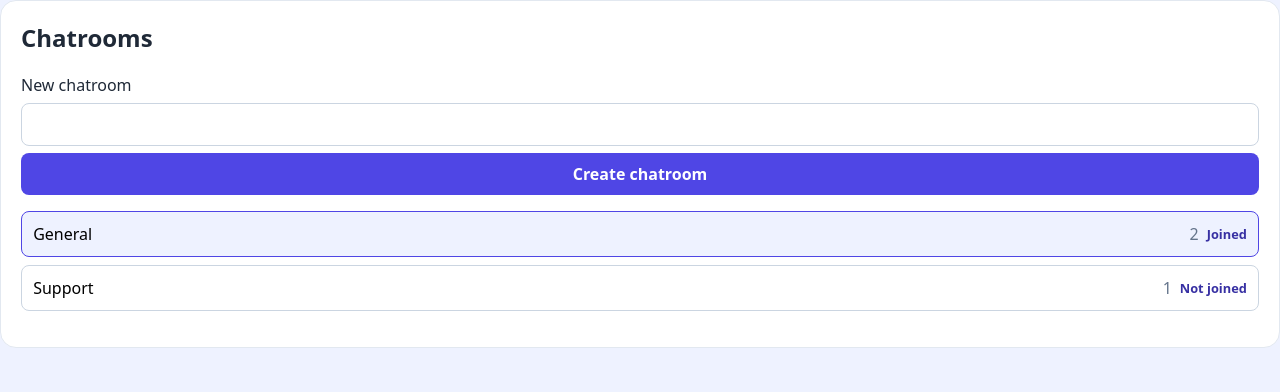
Test: blocks invalid names and preserves the name after an API error
The width and height of the screenshot is (1280, 392).
Submit the form "Create chatroom", box [21,74,1259,195]
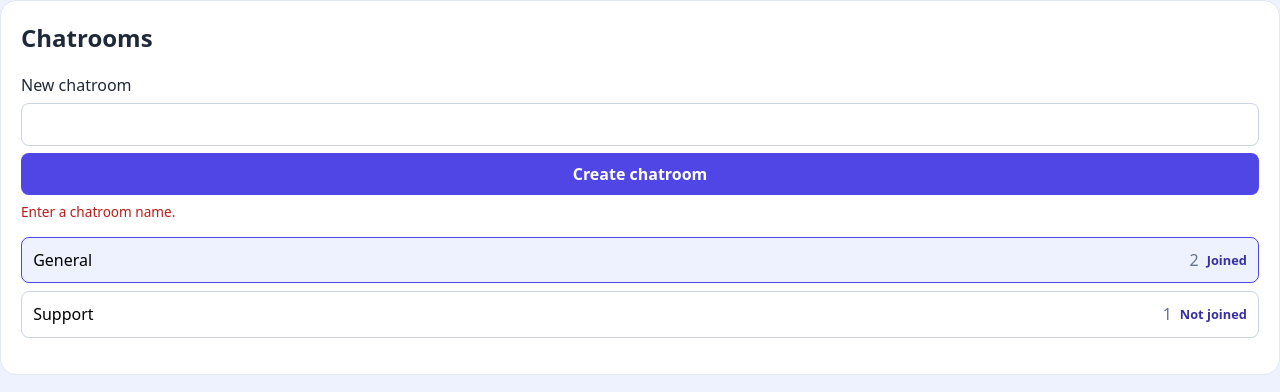
Now the message reads "Enter a chatroom name.", box [21,202,175,221]
Type "Support" into the field labelled "New chatroom".
click(640, 125); type("Support")  # box [21,103,1259,146]
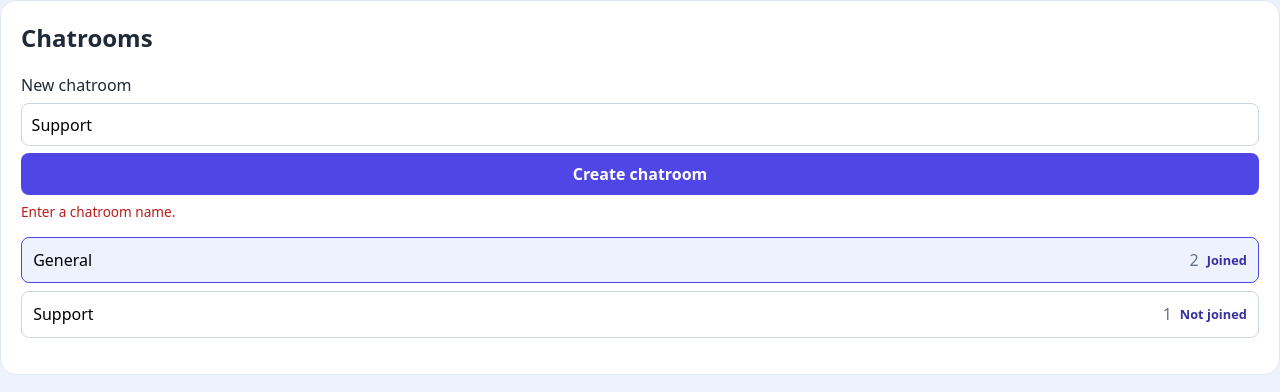
Submit the form "Create chatroom", box [21,74,1259,221]
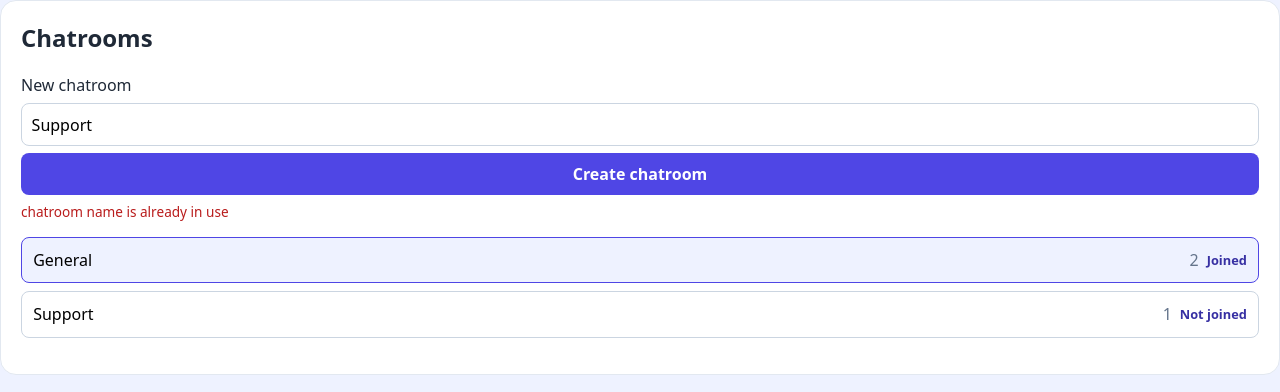
Now the message reads "chatroom name is already in use", box [21,202,229,221]
